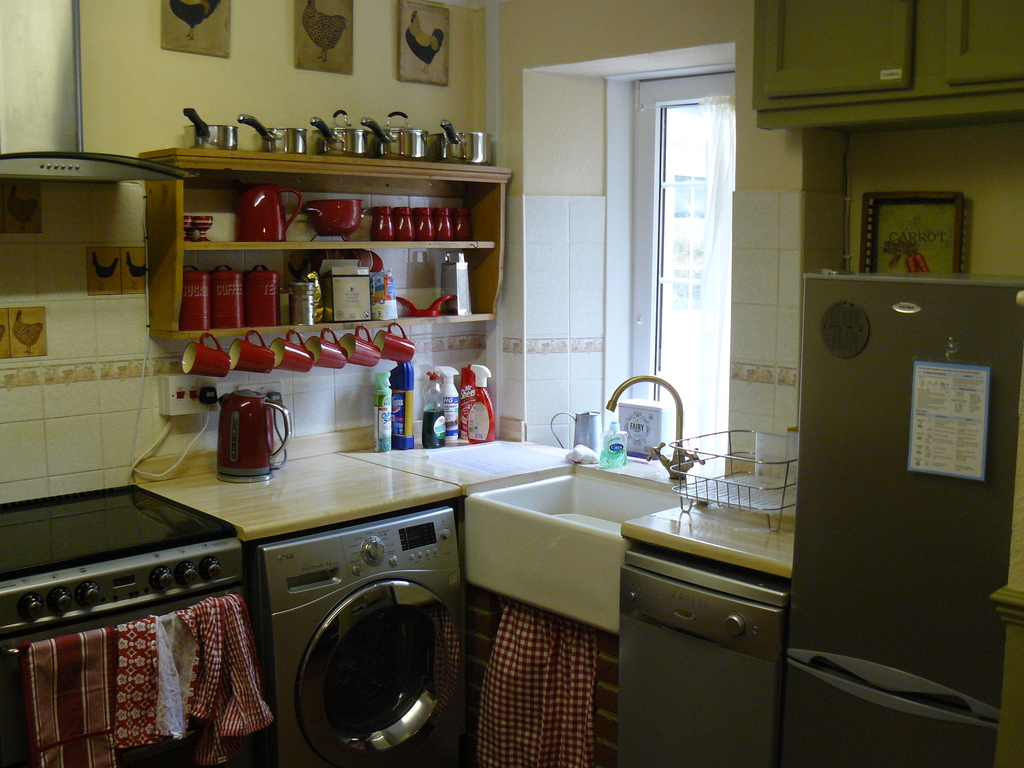handle: (813, 662, 978, 706)
refrigerator door: (809, 283, 1001, 692), (790, 673, 994, 768)
